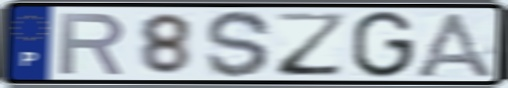8: (135, 11, 197, 77)
A: (409, 9, 499, 80)
G: (348, 9, 418, 80)
R: (57, 10, 129, 77)
S: (204, 8, 275, 80)
Z: (274, 10, 349, 78)
